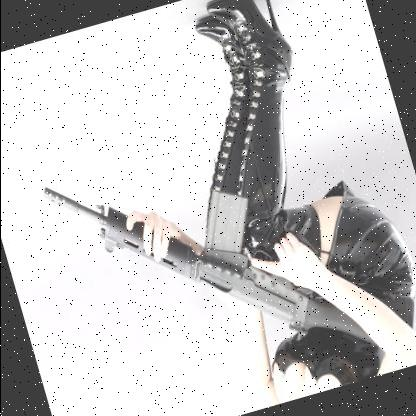rifle: (40, 104, 374, 412)
